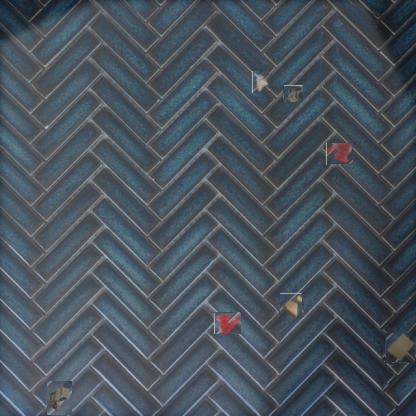dirty: (386, 333, 416, 363), (48, 381, 74, 415), (280, 294, 303, 318), (252, 71, 269, 93), (284, 85, 304, 102)
liquid: (326, 144, 353, 166), (214, 312, 241, 334)
